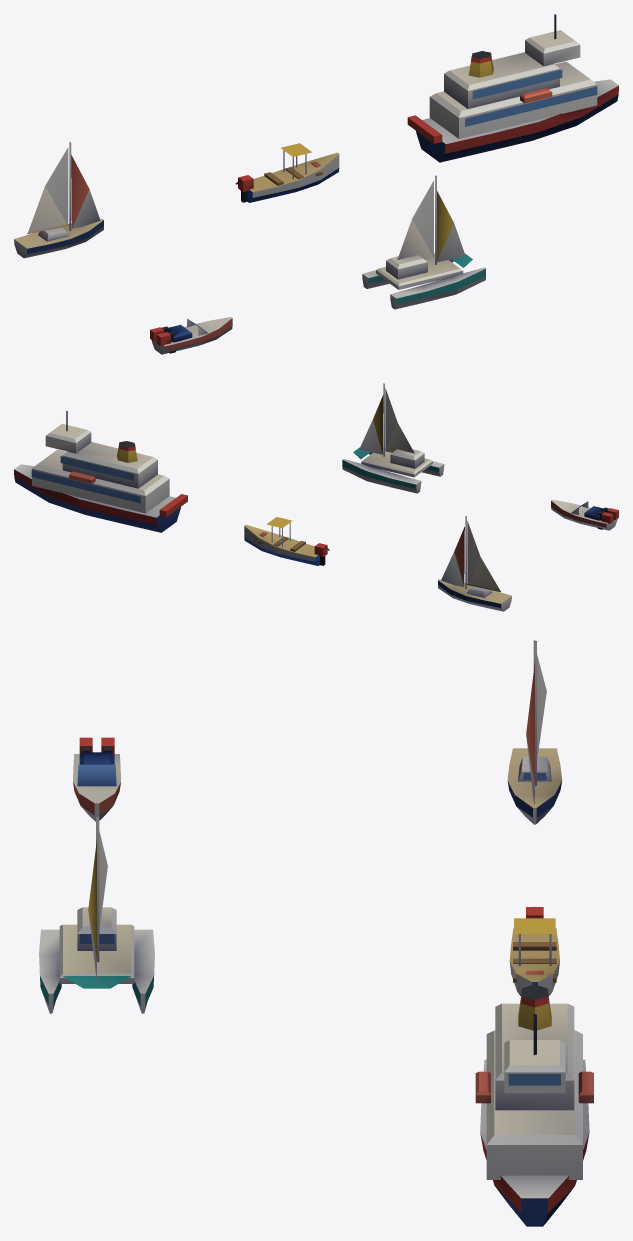
Rendered from barcos.glb.
3 renders of one model, top to bottom at view 1: azimuth 30°, elevation 25°; view 2: azimuth 150°, elevation 25°; view 3: azimuth 270°, elevation 25°, orthographic. The views are drawn at different scales.
Parts seen in each view (by area): view 1: ferry, velero_catamaran, sailboat, penero, lancha; view 2: ferry, velero_catamaran, sailboat, penero, lancha; view 3: ferry, velero_catamaran, sailboat, penero, lancha.
Boxes of the visible parts, x1=… form: ferry: x1=407, y1=14, x2=618, y2=162; velero_catamaran: x1=362, y1=175, x2=486, y2=309; sailboat: x1=14, y1=142, x2=103, y2=258; penero: x1=235, y1=143, x2=339, y2=202; lancha: x1=150, y1=317, x2=232, y2=354; ferry: x1=14, y1=411, x2=187, y2=532; velero_catamaran: x1=342, y1=383, x2=444, y2=493; sailboat: x1=438, y1=516, x2=511, y2=611; penero: x1=244, y1=517, x2=329, y2=565; lancha: x1=551, y1=499, x2=618, y2=530; ferry: x1=475, y1=984, x2=593, y2=1226; velero_catamaran: x1=39, y1=815, x2=154, y2=1013; sailboat: x1=507, y1=640, x2=562, y2=824; penero: x1=509, y1=906, x2=559, y2=995; lancha: x1=73, y1=737, x2=120, y2=821.
Size of the model in its own units: 51.6 by 9.2 by 25.35.
